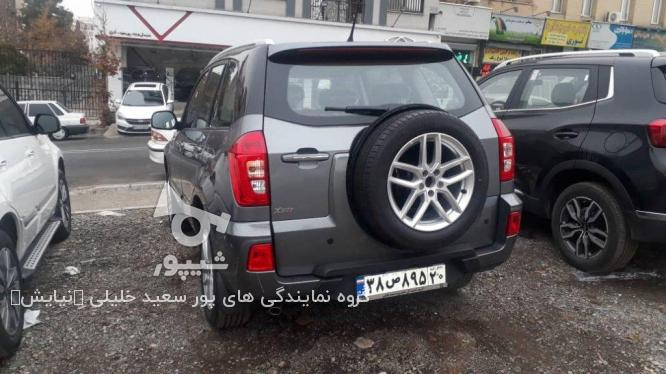car: (356, 261, 447, 304)
